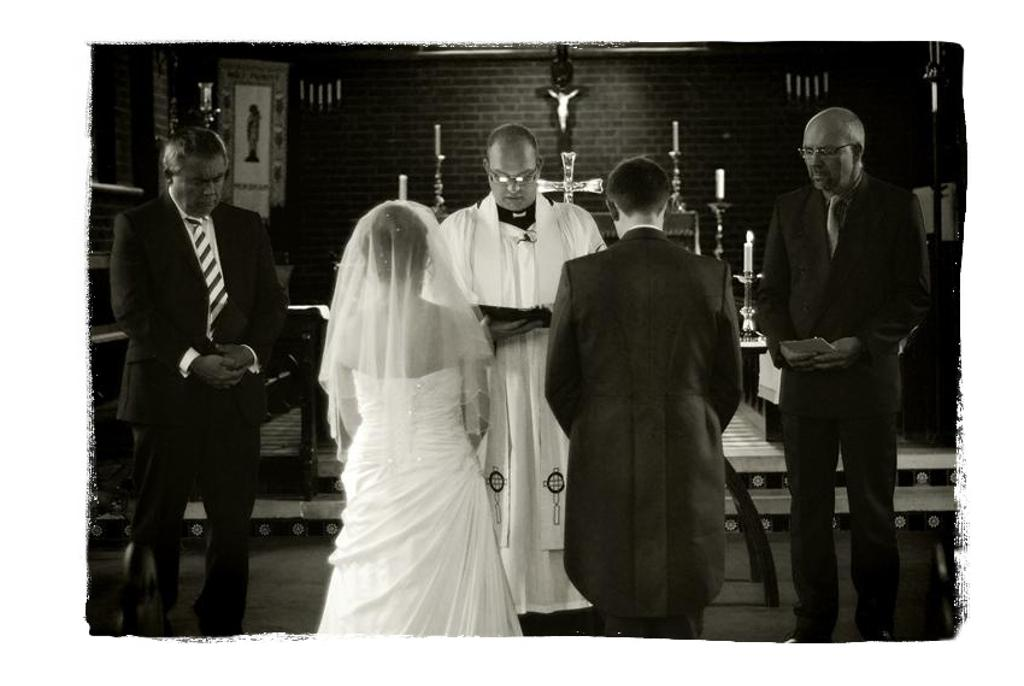face: (486, 134, 544, 216), (176, 146, 232, 226), (802, 122, 856, 198)
